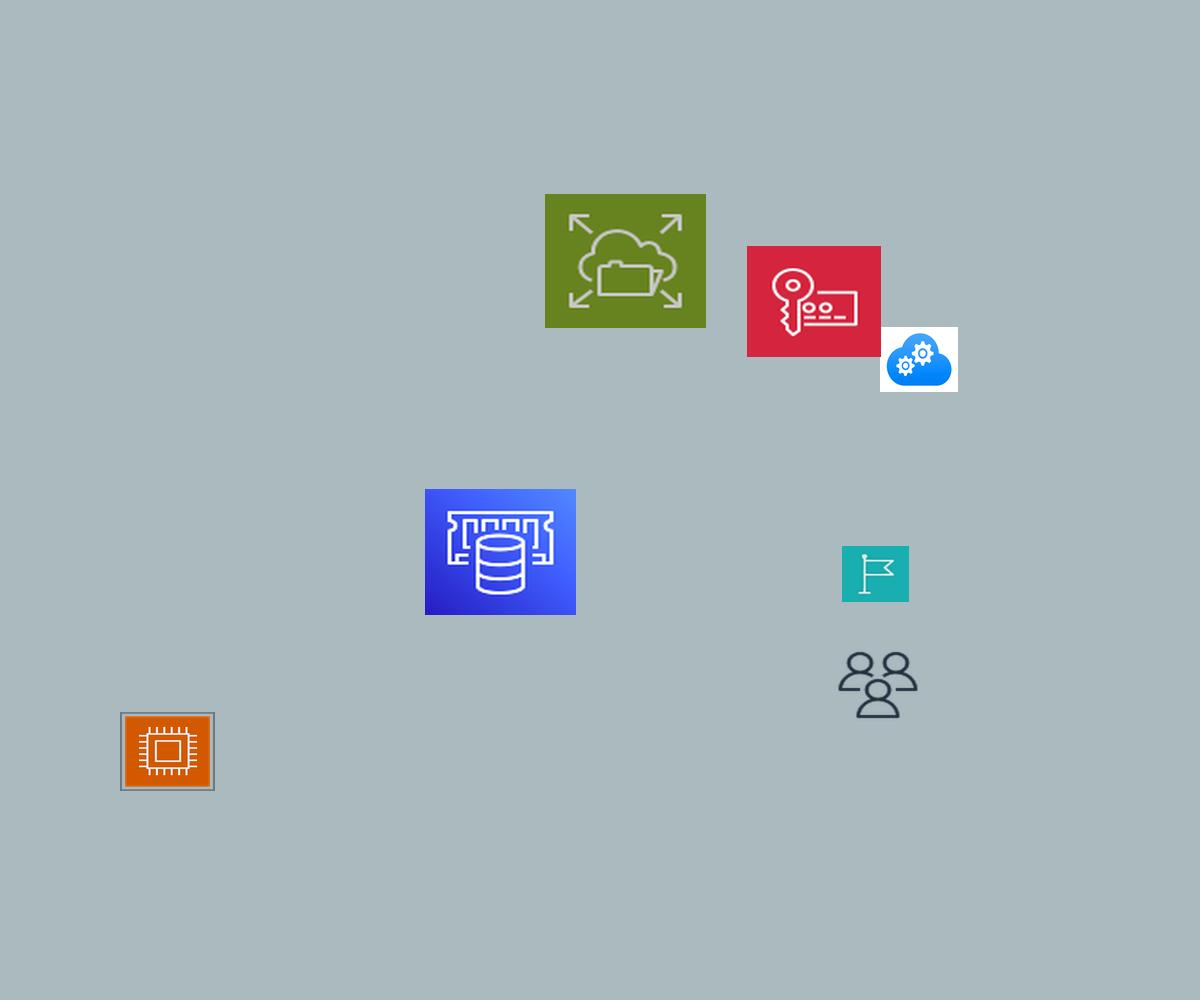AWS-Category_Compute: (120, 712, 215, 791)
AWS-EFS: (545, 194, 706, 328)
AWS-ElastiCache: (425, 489, 576, 615)
AWS-Key-Management-Service: (747, 246, 881, 357)
AWS-Region: (842, 546, 909, 602)
AWS-Res_Users: (835, 649, 921, 721)
Azure_cloud_services: (880, 327, 958, 392)
